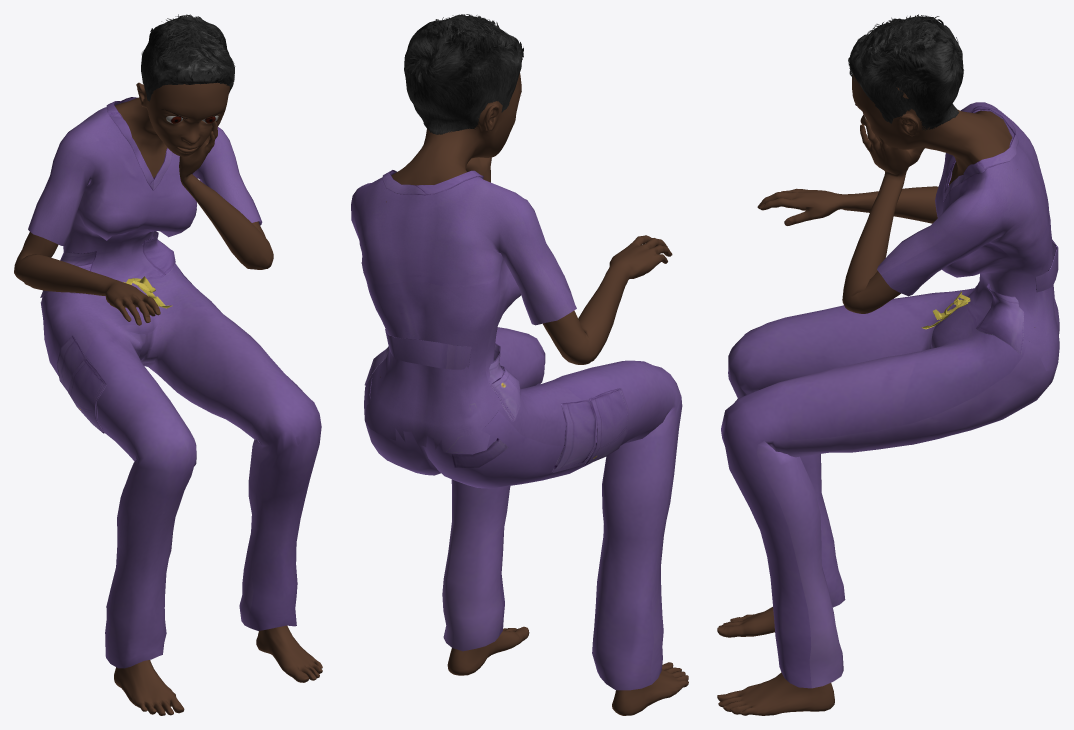
Rendered from tatiana.obj.
3 views of the same model, side by side, from view 1: azimuth 30°, elevation 25°; view 2: azimuth 150°, elevation 25°; view 3: azimuth 270°, elevation 25° (orthographic). The views are drawn at different scales.
Visible parts, largest first — view 1: harvey_fscrubbottoms2.obj, harvey_fscrubtop2.obj, base.obj, short01.obj; view 2: harvey_fscrubbottoms2.obj, harvey_fscrubtop2.obj, base.obj, short01.obj; view 3: harvey_fscrubbottoms2.obj, harvey_fscrubtop2.obj, base.obj, short01.obj.
Part boxes in pixels (x1=…): harvey_fscrubbottoms2.obj: x1=40, y1=263, x2=321, y2=668; harvey_fscrubtop2.obj: x1=28, y1=97, x2=262, y2=297; base.obj: x1=14, y1=82, x2=322, y2=715; short01.obj: x1=141, y1=14, x2=235, y2=101; harvey_fscrubbottoms2.obj: x1=364, y1=327, x2=682, y2=690; harvey_fscrubtop2.obj: x1=351, y1=170, x2=576, y2=453; base.obj: x1=380, y1=73, x2=688, y2=715; short01.obj: x1=404, y1=14, x2=523, y2=134; harvey_fscrubbottoms2.obj: x1=721, y1=286, x2=1059, y2=688; harvey_fscrubtop2.obj: x1=877, y1=102, x2=1059, y2=370; base.obj: x1=717, y1=75, x2=1034, y2=715; short01.obj: x1=848, y1=14, x2=963, y2=130.
Bounding box in the file's own units: 4.2 × 11.6 × 5.39.
Materials: 6 (5 with a texture image).
